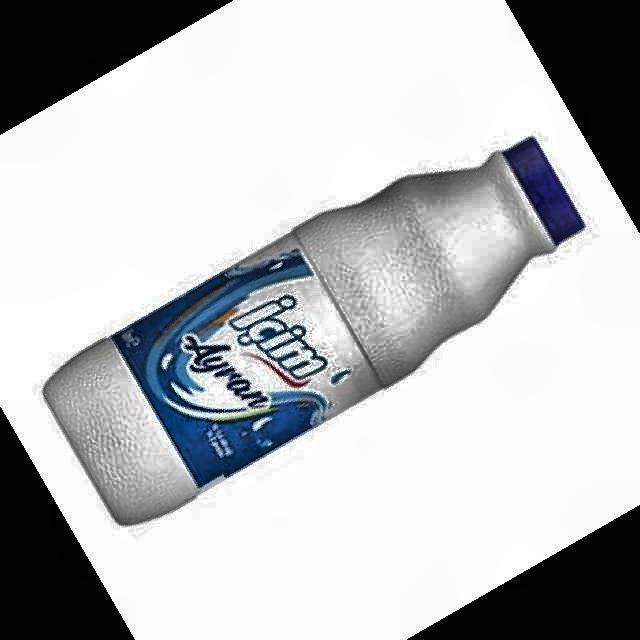plastic: (45, 138, 584, 523)
